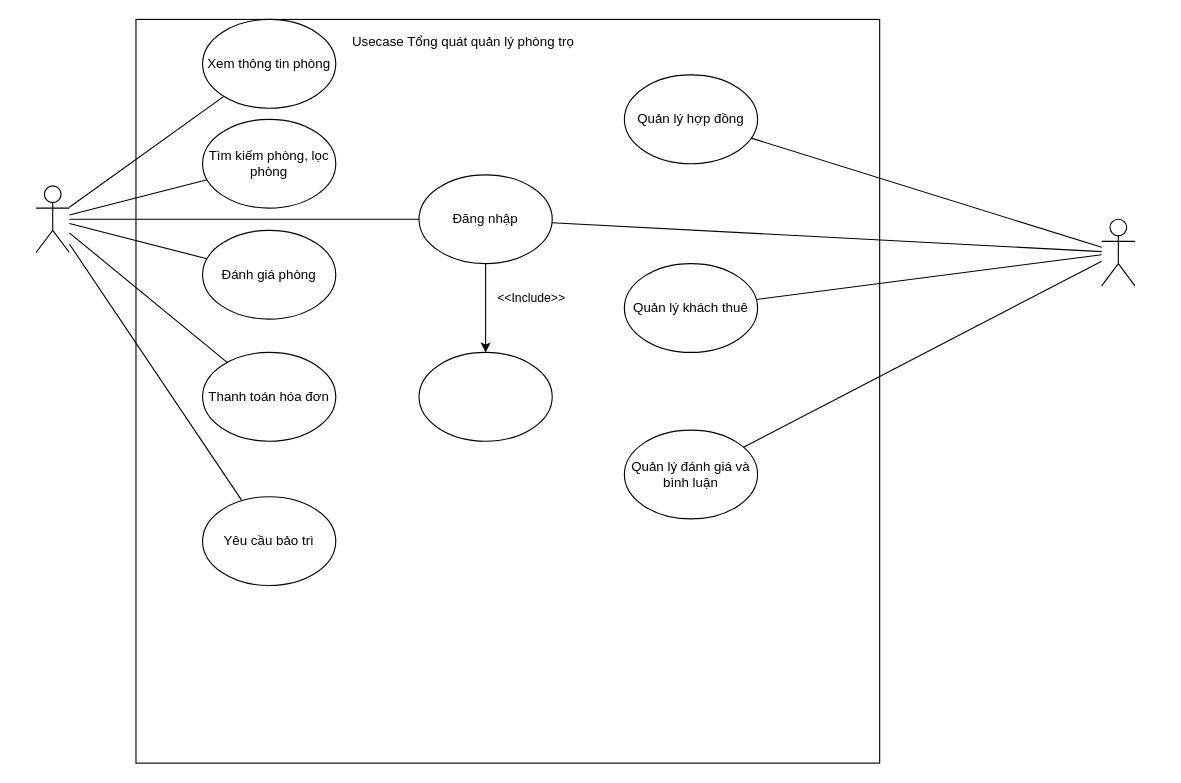
Some shapes in this 1181 by 783 pixel diagram are drawn without their labels. The shapes that lost their labels are listed below. From the top down, each one's centre as x and y in pixels, then its label:
the point at 52,219: Khách thuê
the point at 1118,252: Admin(chủ trọ)
the point at 485,396: Đăng ký
